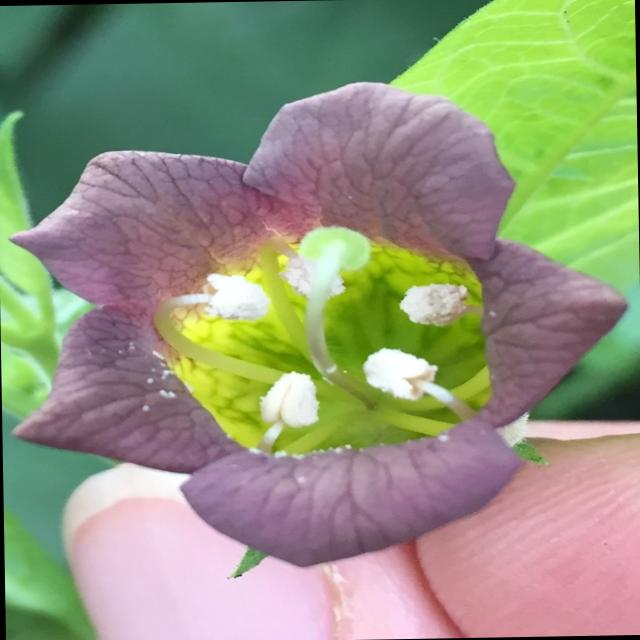Belladonna: (38, 111, 560, 564)
